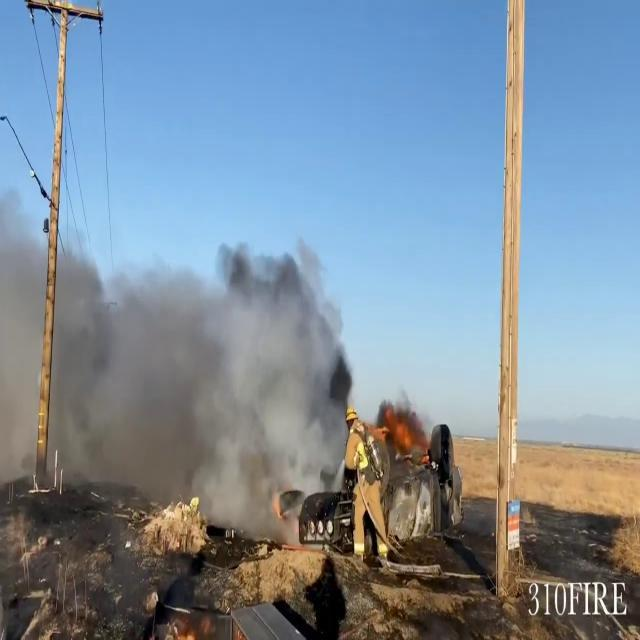Fire: (344, 400, 432, 462), (372, 402, 430, 458)
Smoke: (59, 218, 354, 530)
